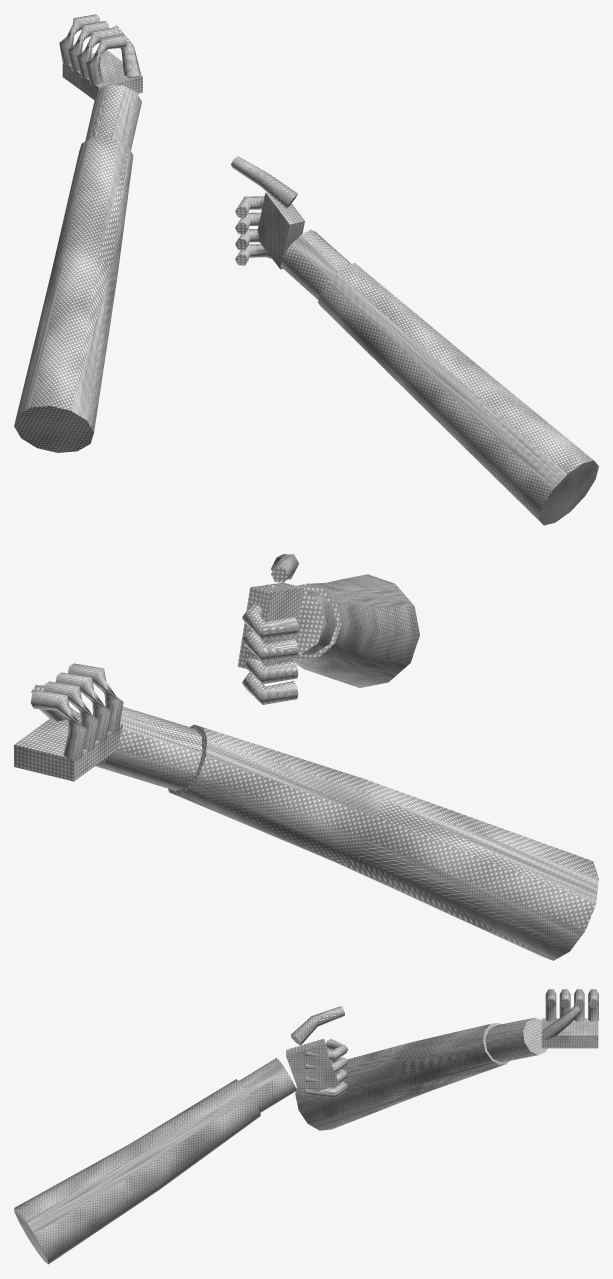
File: hands.obj
The picture shows the model from 3 angles, top to bottom: view 1: azimuth 30°, elevation 25°; view 2: azimuth 150°, elevation 25°; view 3: azimuth 270°, elevation 25°; orthographic projection. The views are drawn at different scales.
Bounding box in the file's own units: 0.7613 × 0.5164 × 1.24.
2 materials, 2 textured.
